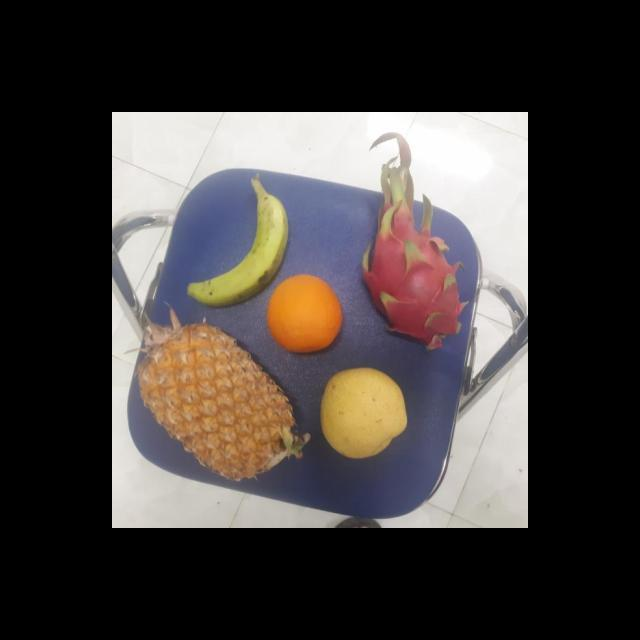banana: (192, 186, 286, 310)
orange: (262, 274, 342, 352)
pear: (315, 368, 408, 457)
pineapple: (134, 328, 301, 486)
pitaya: (355, 202, 475, 346)
